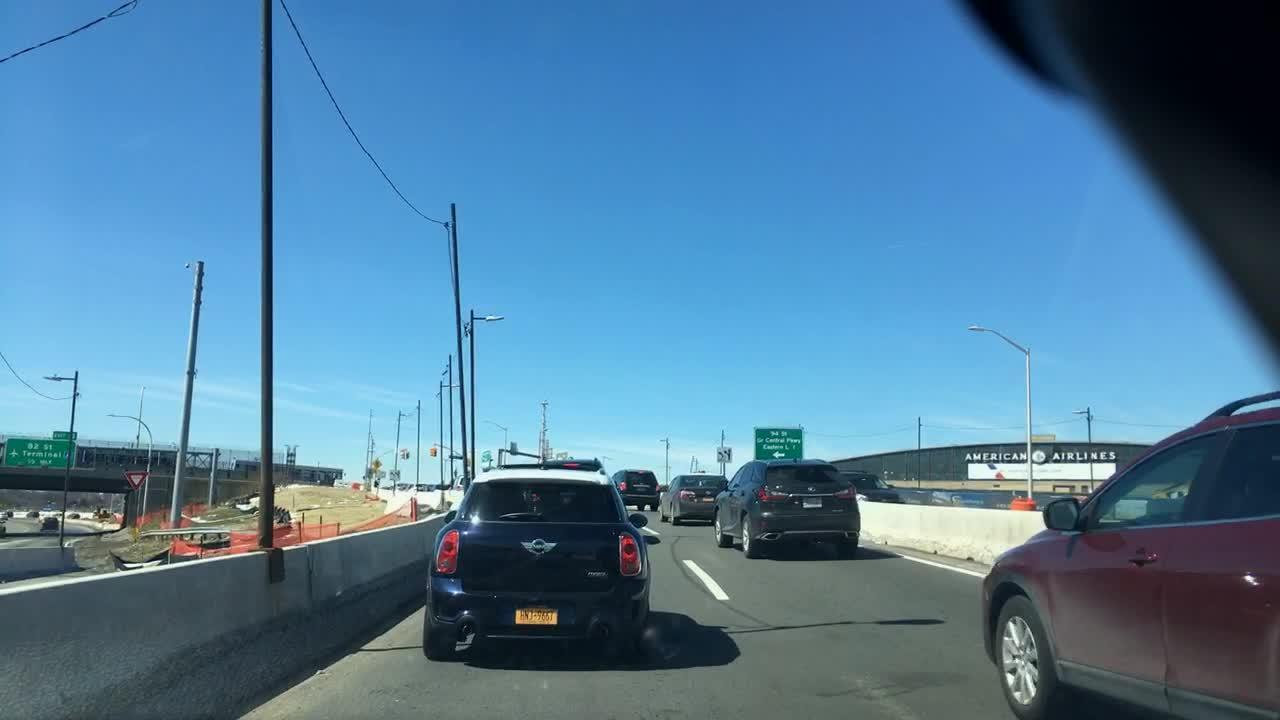mini: (514, 531, 566, 560)
